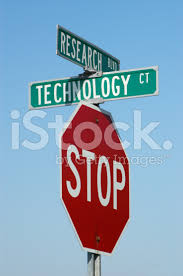stop_sign: (58, 101, 132, 256)
